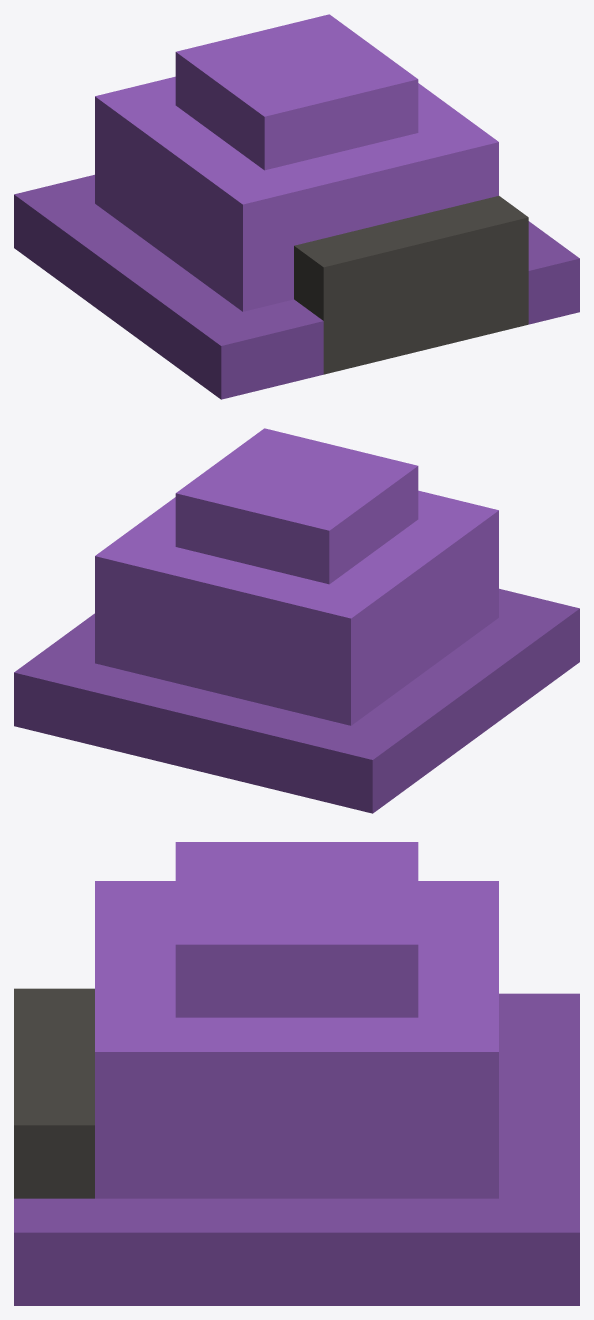
Rendered from legendario_casco_no_muerto_01.glb.
3 views of the same model, one above another, from view 1: azimuth 30°, elevation 25°; view 2: azimuth 150°, elevation 25°; view 3: azimuth 270°, elevation 25° (orthographic). The views are drawn at different scales.
Visible parts, largest first — view 1: legendario_casco_no_muerto; view 2: legendario_casco_no_muerto; view 3: legendario_casco_no_muerto.
Part boxes in pixels (x1,y1,x2,y2): legendario_casco_no_muerto: [14, 14, 579, 399]; legendario_casco_no_muerto: [14, 428, 579, 813]; legendario_casco_no_muerto: [14, 842, 579, 1305].
Size of the model in its own units: 0.5833 by 0.3333 by 0.5833.
